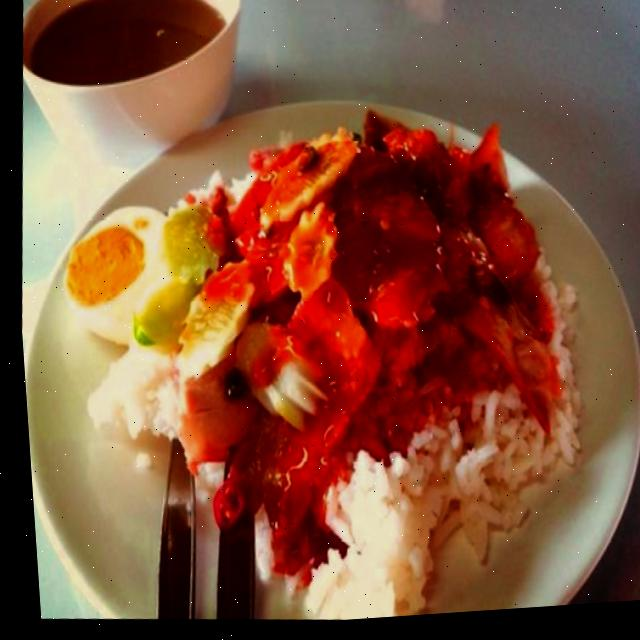猪肉菜式: (6, 77, 636, 640)
